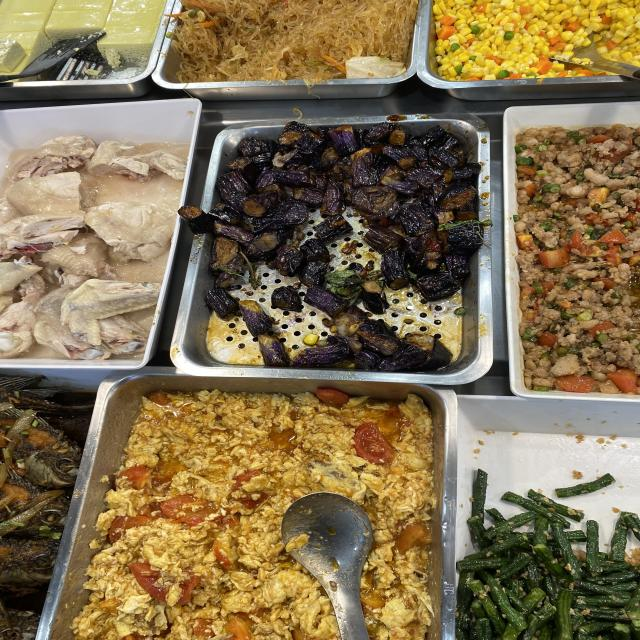Scramble Egg with Tomatoes: (135, 411, 275, 609)
eggplant: (251, 140, 436, 194)
